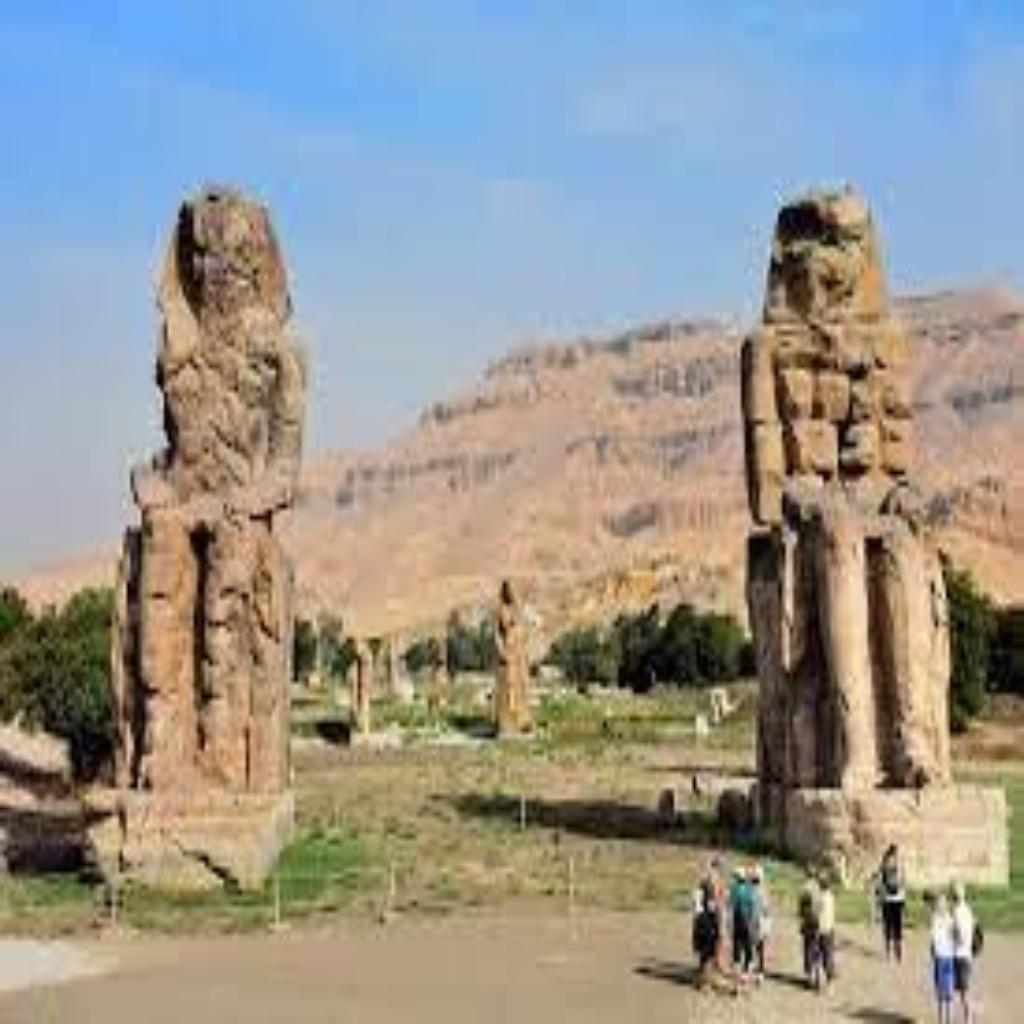Colossoi of Memnon: (90, 168, 312, 890), (734, 174, 957, 844)
